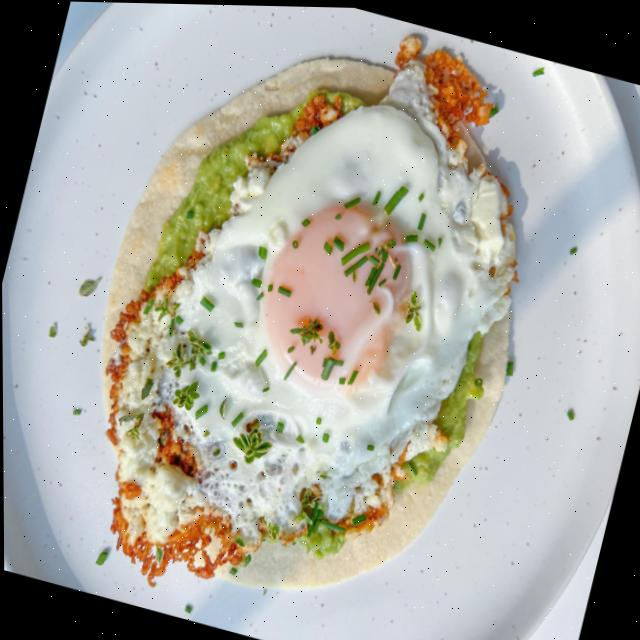Egg: (104, 39, 516, 584)
